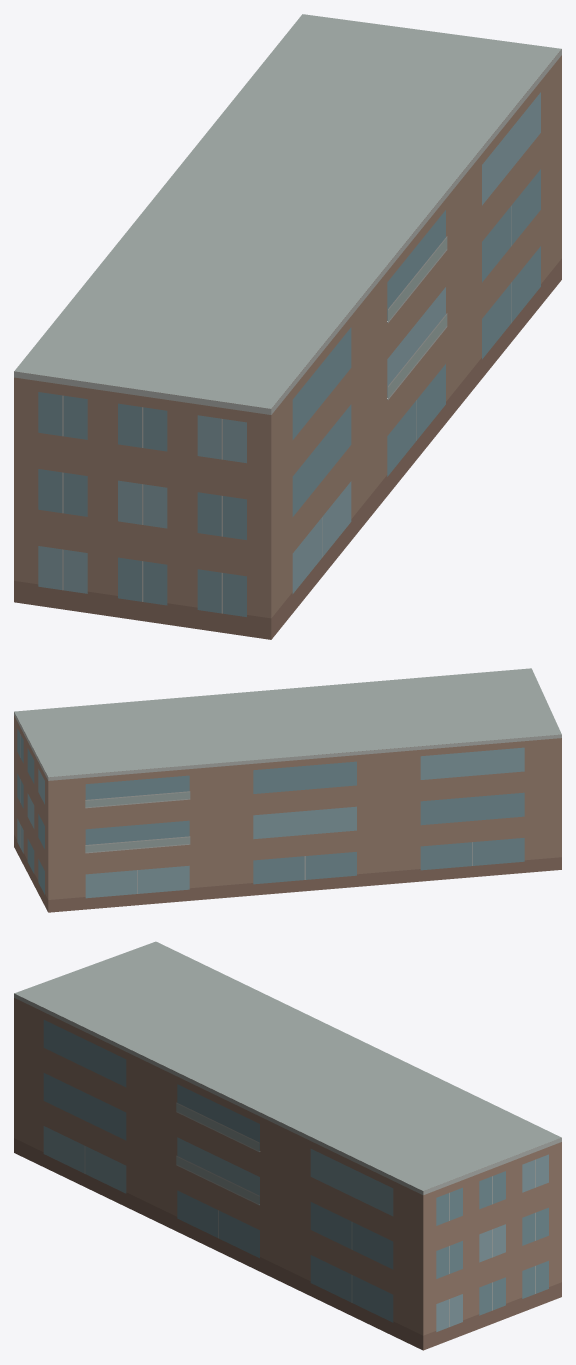
The model's file is survey-upis-32627317.glb.
3 renders of one model, top to bottom at view 1: azimuth 30°, elevation 25°; view 2: azimuth 150°, elevation 25°; view 3: azimuth 270°, elevation 25°, orthographic. The views are drawn at different scales.
Visible parts, largest first — view 1: survey-upis-32627317.tmp; view 2: survey-upis-32627317.tmp; view 3: survey-upis-32627317.tmp.
Boxes of the visible parts, box(x1,y1,x2,y2) form: survey-upis-32627317.tmp: box(14, 14, 561, 639); survey-upis-32627317.tmp: box(14, 668, 561, 912); survey-upis-32627317.tmp: box(14, 941, 561, 1350).
Size of the model in its own units: 30.74 by 9.15 by 28.51.
